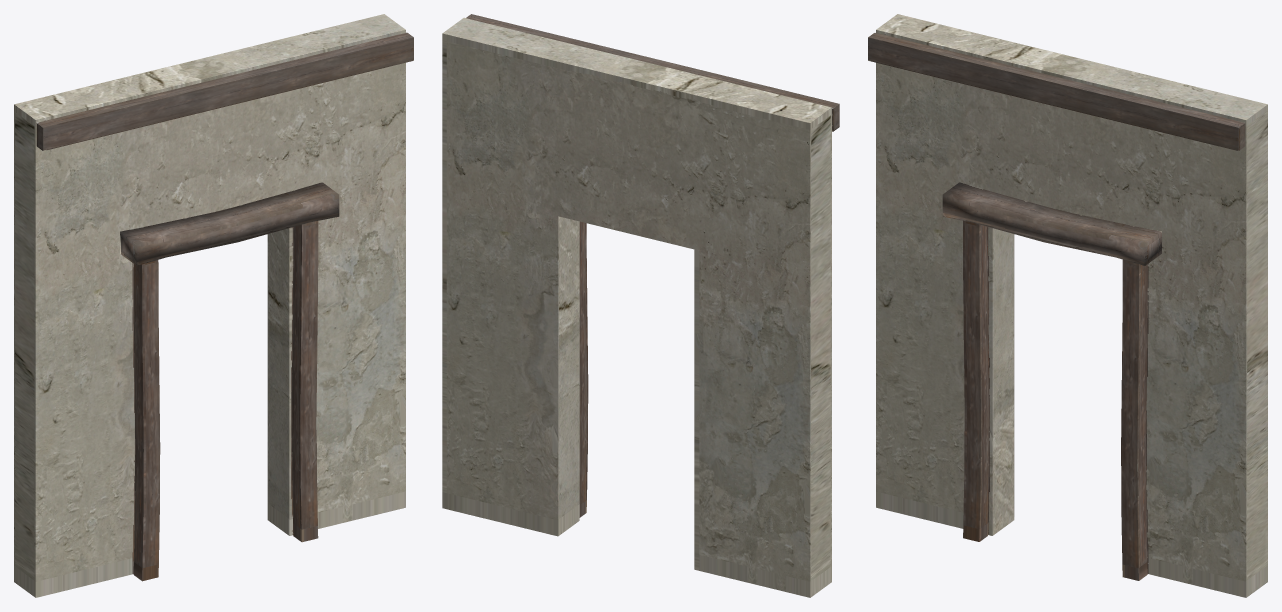
Rendered from pared_puerta_1.fbx.
The picture shows the model from 3 angles, left to right: view 1: azimuth 30°, elevation 25°; view 2: azimuth 150°, elevation 25°; view 3: azimuth 330°, elevation 25°; orthographic projection.
Parts seen in each view (by area): view 1: pared_puerta_1; view 2: pared_puerta_1; view 3: pared_puerta_1.
Part boxes in pixels (<box>): pared_puerta_1: <box>14,14,413,597</box>; pared_puerta_1: <box>442,14,839,597</box>; pared_puerta_1: <box>868,14,1267,597</box>.
Size of the model in its own units: 401 by 494 by 72.98.
